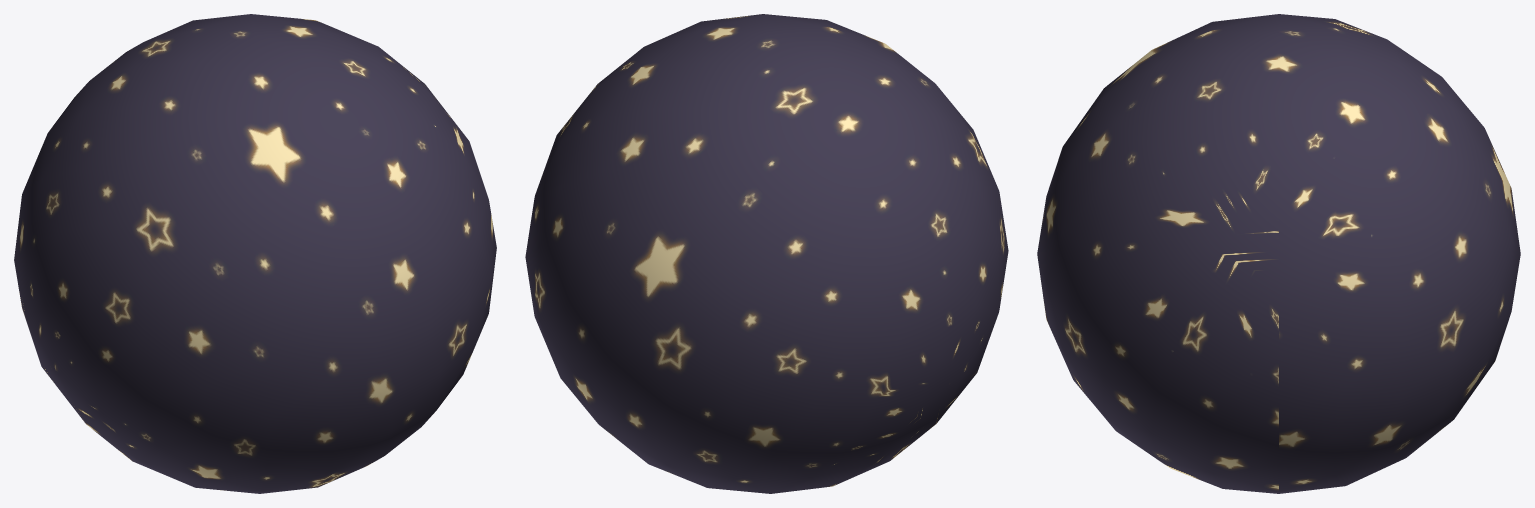
Rendered from cubemap.obj.
3 views of the same model, side by side, from view 1: azimuth 30°, elevation 25°; view 2: azimuth 150°, elevation 25°; view 3: azimuth 270°, elevation 25° (orthographic).
Visible parts, largest first — view 1: cubemap; view 2: cubemap; view 3: cubemap.
Part boxes in pixels (x1=…): cubemap: x1=14, y1=14, x2=496, y2=493; cubemap: x1=525, y1=14, x2=1008, y2=493; cubemap: x1=1037, y1=14, x2=1520, y2=493.
Size of the model in its own units: 5.09 by 5.09 by 5.09.
